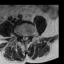CCS_normal: (24, 33, 26, 43)
LFS_severe_stenosis: (28, 33, 31, 40)
LLS_normal: (26, 33, 28, 41)
RFS_severe_stenosis: (19, 33, 22, 40)
RLS_normal: (22, 33, 24, 41)
